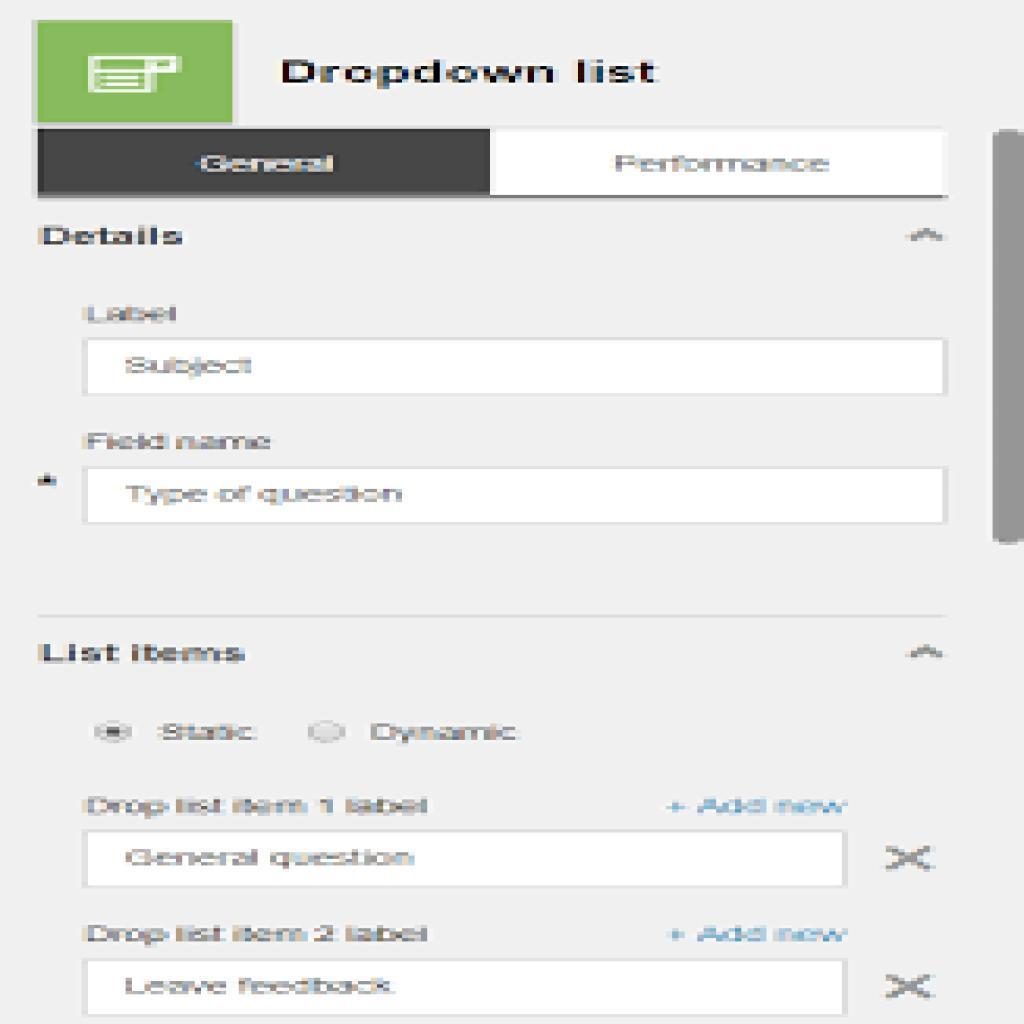dropdown: (16, 200, 999, 270)
icon: (881, 964, 944, 1015), (878, 838, 939, 890)
input: (80, 460, 952, 528), (81, 334, 947, 396), (86, 954, 847, 1023), (85, 826, 850, 886)
radio: (92, 711, 140, 752), (307, 712, 352, 752)
